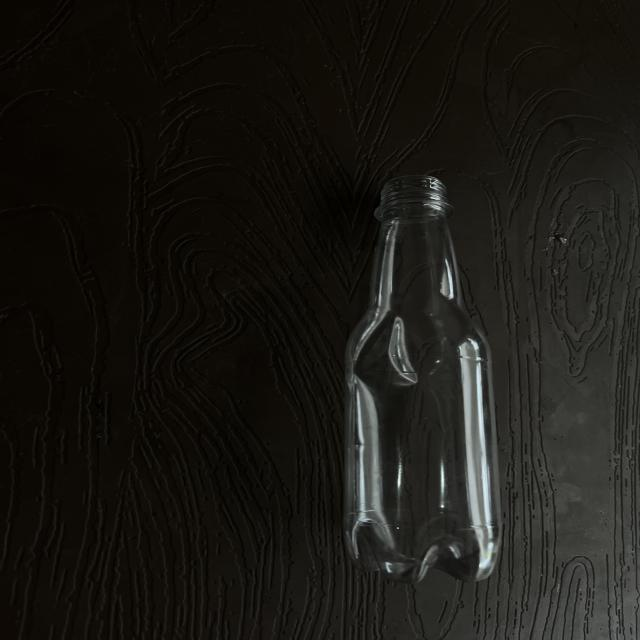PET_ClearBottle: (326, 175, 574, 598)
